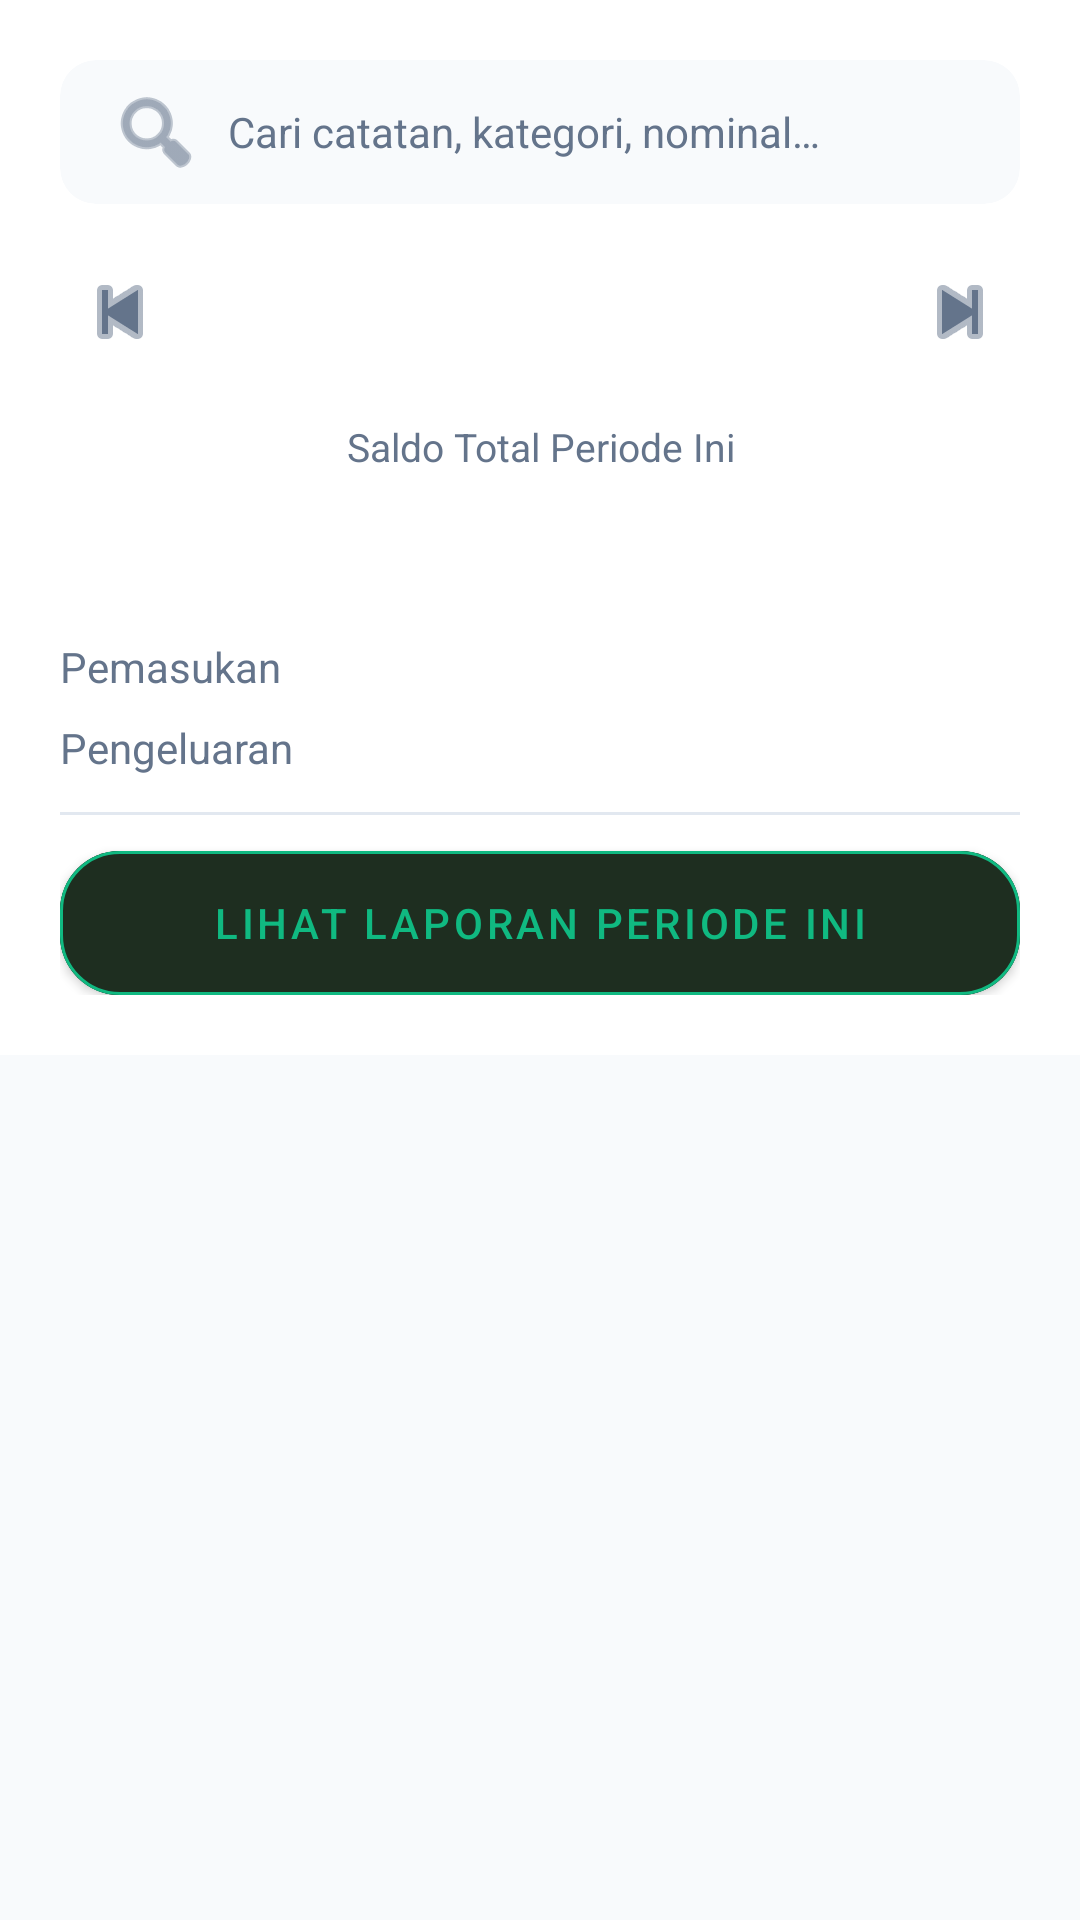

Where icons sit on this 1080w x 1920h app screen, as box(x1, y1, x2, y2):
next: box(937, 285, 983, 339)
previous: box(97, 285, 143, 339)
